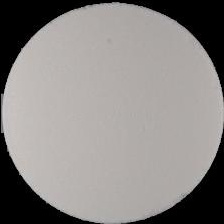55289-976: (0, 0, 224, 224)
